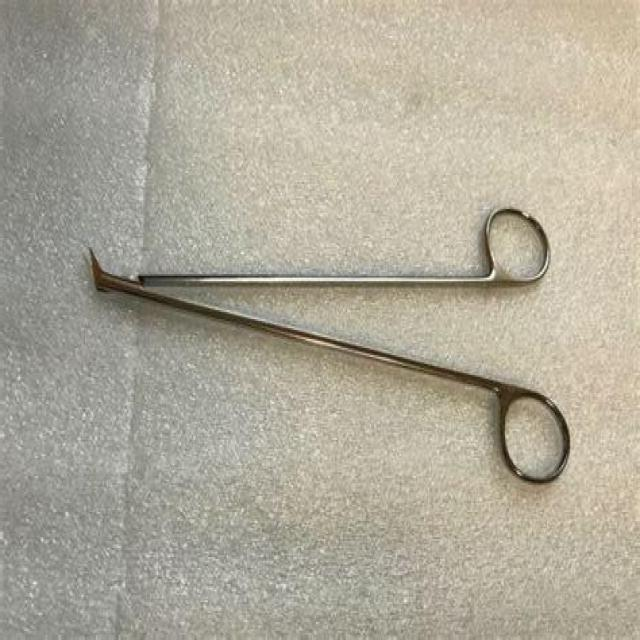Potts: (84, 198, 572, 494)
